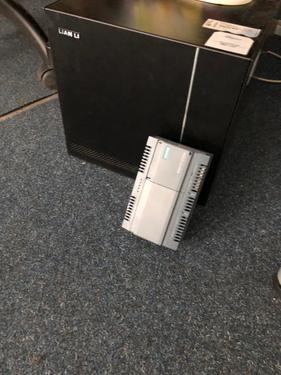device: (122, 136, 214, 251)
